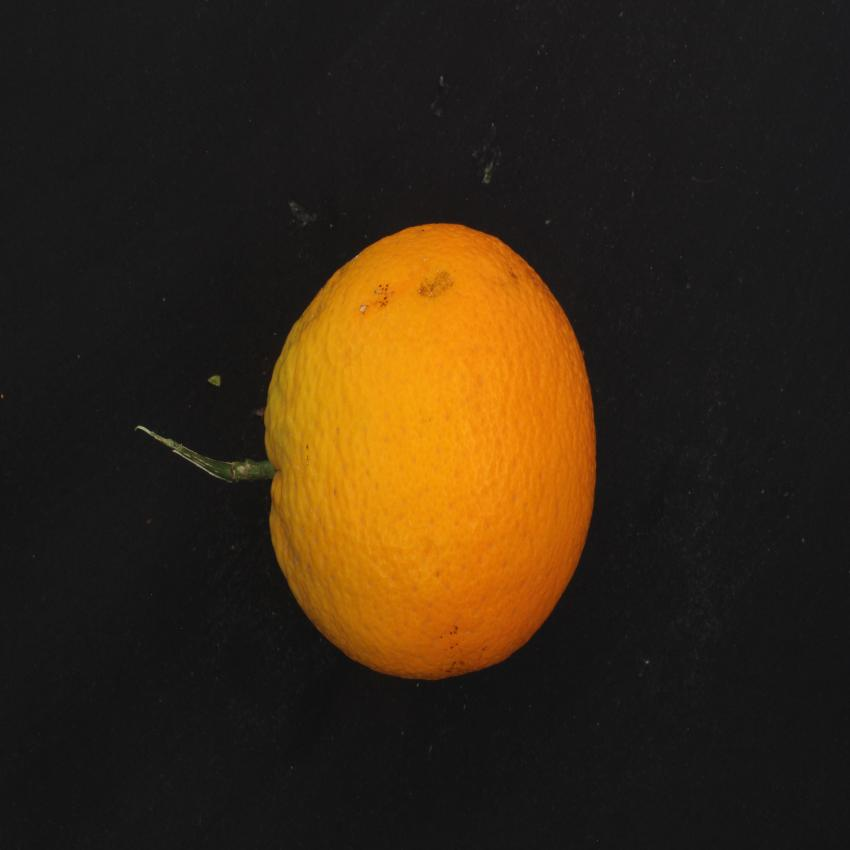Buen estado: (209, 217, 606, 698)
